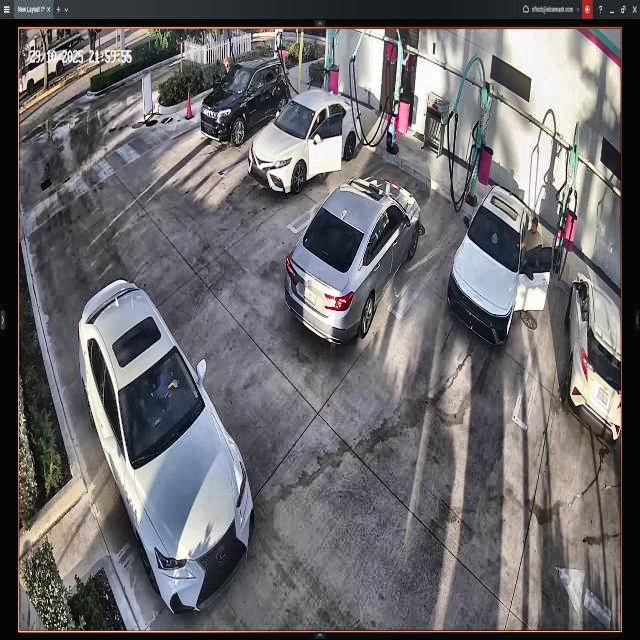Car: (77, 282, 255, 619), (286, 174, 419, 347), (449, 186, 552, 350), (250, 88, 363, 192), (202, 56, 288, 146)
